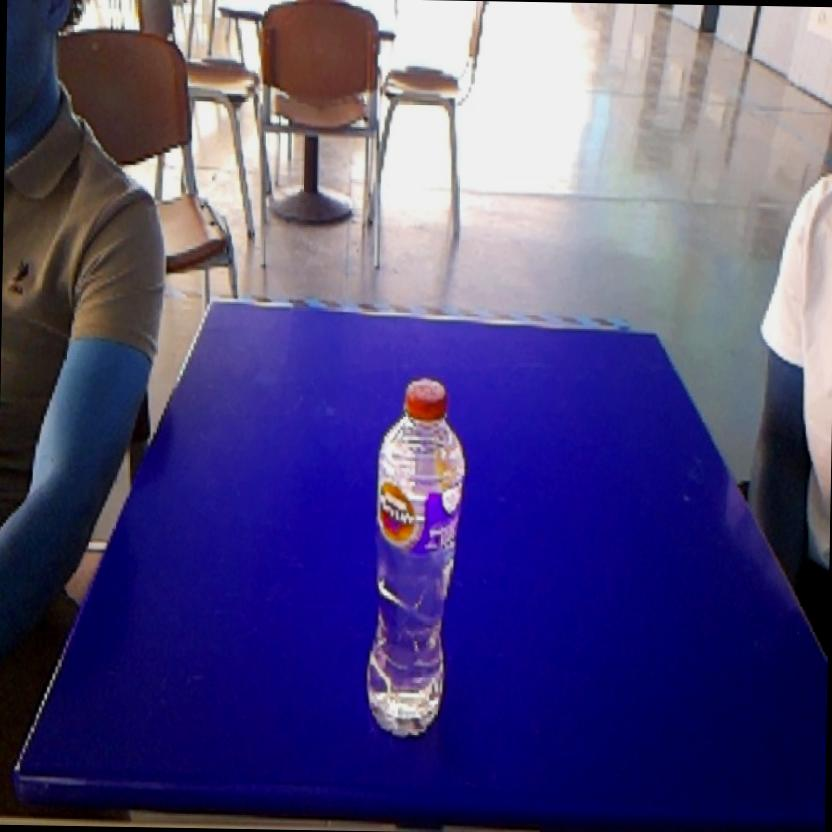good: (353, 368, 477, 744)
